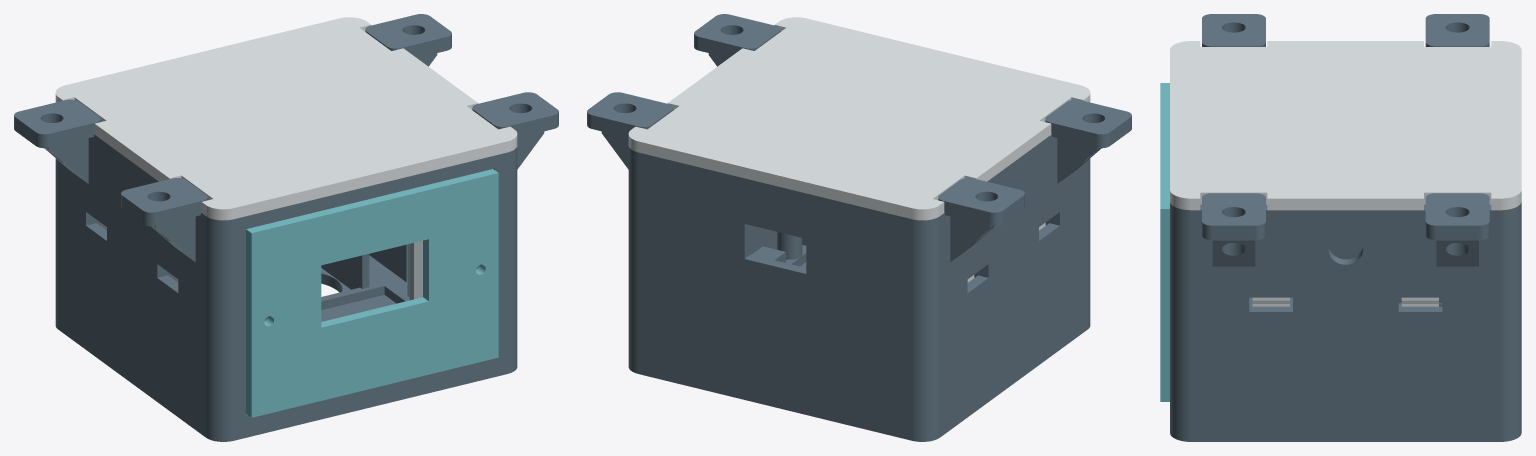
Rendered from case-oled.glb.
3 renders of one model, left to right at view 1: azimuth 30°, elevation 25°; view 2: azimuth 150°, elevation 25°; view 3: azimuth 270°, elevation 25°, orthographic. The views are drawn at different scales.
Parts seen in each view (by area): view 1: case-oled (×4); view 2: case-oled (×2); view 3: case-oled (×3).
Boxes of the visible parts, bbox=[...] form: case-oled (×4): bbox=[14, 14, 558, 441]; case-oled (×2): bbox=[587, 14, 1131, 441]; case-oled (×3): bbox=[1160, 14, 1521, 441].
Bounding box in the file's own units: 0.094 × 0.0504 × 0.0678.
